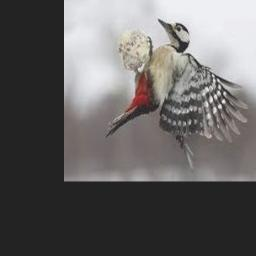Woodpecker: (105, 19, 248, 168)
